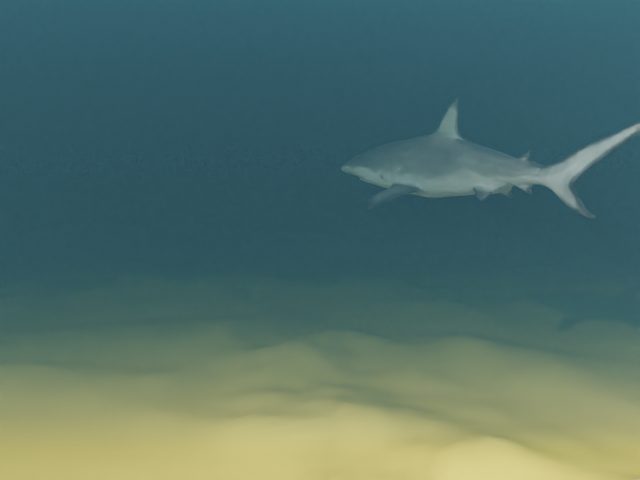Carribean Shark.001: (341, 98, 640, 218)
